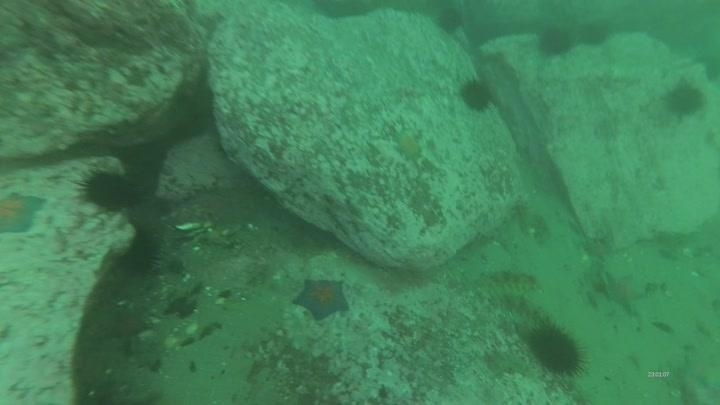echinus: (524, 319, 589, 378), (76, 166, 142, 214), (120, 229, 163, 277), (662, 79, 707, 120), (457, 76, 496, 114), (535, 25, 575, 59), (576, 20, 612, 49), (433, 6, 465, 36)
holothurian: (492, 285, 561, 327), (477, 266, 541, 294)
starfish: (291, 276, 352, 322), (598, 267, 650, 317), (1, 189, 48, 238), (104, 306, 152, 342), (391, 126, 425, 163)
